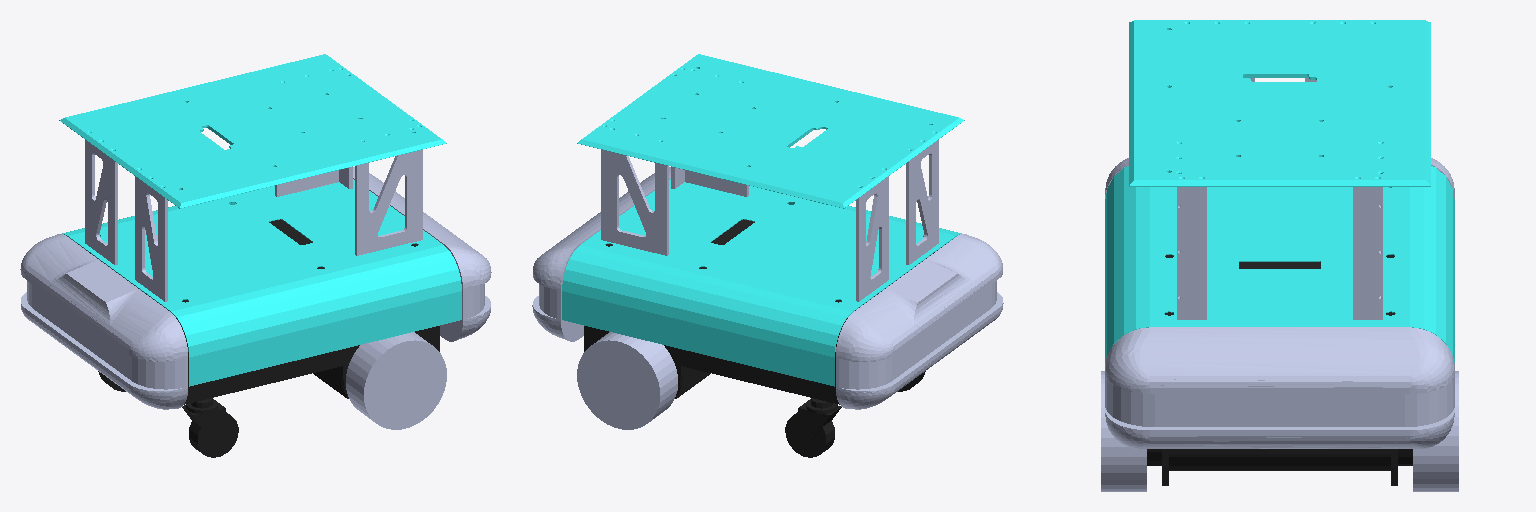
The robot description file, URDF, robot "urdf_platform_final":
<robot
  name="urdf_platform_final">
  <link
    name="Placa_cima">
    <inertial>
      <origin
        xyz="-0.176936337591448 0.00306007682802778 -0.00508917812830267"
        rpy="0 0 0" />
      <mass
        value="4.45495796159962" />
      <inertia
        ixx="0"
        ixy="0"
        ixz="0"
        iyy="0"
        iyz="0"
        izz="0" />
    </inertial>
    <visual>
      <origin
        xyz="0 0 0"
        rpy="0 0 0" />
      <geometry>
        <mesh
          filename="package://r_platform/meshes/Placa_cima.STL" />
      </geometry>
      <material
        name="">
        <color
          rgba="0.298039215686275 1 1 1" />
      </material>
    </visual>
    <collision>
      <origin
        xyz="0 0 0"
        rpy="0 0 0" />
      <geometry>
        <mesh
          filename="package://r_platform/meshes/Placa_cima.STL" />
      </geometry>
    </collision>
  </link>
  <link
    name="estrutura1">
    <inertial>
      <origin
        xyz="0.0902928987505107 0.00500000000000006 -0.15"
        rpy="0 0 0" />
      <mass
        value="0.369813102924492" />
      <inertia
        ixx="0"
        ixy="0"
        ixz="0"
        iyy="0"
        iyz="0"
        izz="0" />
    </inertial>
    <visual>
      <origin
        xyz="0 0 0"
        rpy="0 0 0" />
      <geometry>
        <mesh
          filename="package://r_platform/meshes/estrutura1.STL" />
      </geometry>
      <material
        name="">
        <color
          rgba="0.792156862745098 0.819607843137255 0.933333333333333 1" />
      </material>
    </visual>
    <collision>
      <origin
        xyz="0 0 0"
        rpy="0 0 0" />
      <geometry>
        <mesh
          filename="package://r_platform/meshes/estrutura1.STL" />
      </geometry>
    </collision>
  </link>
  <joint
    name="placa_cima_estrutura1"
    type="fixed">
    <origin
      xyz="0.182 -0.202250000000001 -0.309999999999999"
      rpy="-3.14159265358979 -6.72862439166762E-16 3.14159265358979" />
    <parent
      link="Placa_cima" />
    <child
      link="estrutura1" />
    <axis
      xyz="0 0 0" />
  </joint>
  <link
    name="Curva_cima">
    <inertial>
      <origin
        xyz="3.33066907387547E-16 -0.0324562842733922 0.39343329100272"
        rpy="0 0 0" />
      <mass
        value="1.4814389684612" />
      <inertia
        ixx="0"
        ixy="0"
        ixz="0"
        iyy="0"
        iyz="0"
        izz="0" />
    </inertial>
    <visual>
      <origin
        xyz="0 0 0"
        rpy="0 0 0" />
      <geometry>
        <mesh
          filename="package://r_platform/meshes/Curva_cima.STL" />
      </geometry>
      <material
        name="">
        <color
          rgba="0.298039215686275 1 1 1" />
      </material>
    </visual>
    <collision>
      <origin
        xyz="0 0 0"
        rpy="0 0 0" />
      <geometry>
        <mesh
          filename="package://r_platform/meshes/Curva_cima.STL" />
      </geometry>
    </collision>
  </link>
  <joint
    name="estrutura1_curva_cima"
    type="fixed">
    <origin
      xyz="-0.04 0.205 0"
      rpy="-1.5708 0 -1.5708" />
    <parent
      link="estrutura1" />
    <child
      link="Curva_cima" />
    <axis
      xyz="0 0 0" />
  </joint>
  <link
    name="plataform_base_link">
    <inertial>
      <origin
        xyz="0.409656075991922 0.112053255905365 0.235029914740766"
        rpy="0 0 0" />
      <mass
        value="106.934808234131" />
      <inertia
        ixx="0"
        ixy="0"
        ixz="0"
        iyy="0"
        iyz="0"
        izz="0" />
    </inertial>
    <visual>
      <origin
        xyz="0 0 0"
        rpy="0 0 0" />
      <geometry>
        <mesh
          filename="package://r_platform/meshes/plataform_base_link.STL" />
      </geometry>
      <material
        name="">
        <color
          rgba="0.176470588235294 0.176470588235294 0.176470588235294 1" />
      </material>
    </visual>
    <collision>
      <origin
        xyz="0 0 0"
        rpy="0 0 0" />
      <geometry>
        <mesh
          filename="package://r_platform/meshes/plataform_base_link.STL" />
      </geometry>
    </collision>
  </link>
  <joint
    name="curva_base"
    type="fixed">
    <origin
      xyz="-0.235 -0.277 0.7875"
      rpy="0 1.5707963267949 0" />
    <parent
      link="Curva_cima" />
    <child
      link="plataform_base_link" />
    <axis
      xyz="0 0 0" />
  </joint>
  <link
    name="Rwheel">
    <inertial>
      <origin
        xyz="5.55111512312578E-17 -2.77555756156289E-17 0.045"
        rpy="0 0 0" />
      <mass
        value="4.07150407905237" />
      <inertia
        ixx="0"
        ixy="0"
        ixz="0"
        iyy="0"
        iyz="0"
        izz="0" />
    </inertial>
    <visual>
      <origin
        xyz="0 0 0"
        rpy="0 0 0" />
      <geometry>
        <mesh
          filename="package://r_platform/meshes/Rwheel.STL" />
      </geometry>
      <material
        name="">
        <color
          rgba="0.792156862745098 0.819607843137255 0.933333333333333 1" />
      </material>
    </visual>
    <collision>
      <origin
        xyz="0 0 0"
        rpy="0 0 0" />
      <geometry>
        <mesh
          filename="package://r_platform/meshes/Rwheel.STL" />
      </geometry>
    </collision>
  </link>
  <joint
    name="base_Rwheel"
    type="continuous">
    <origin
      xyz="0.62 -0.03 0.5"
      rpy="0 0 0" />
    <parent
      link="plataform_base_link" />
    <child
      link="Rwheel" />
    <axis
      xyz="0 0 1" />
  </joint>
  <link
    name="Lwheel">
    <inertial>
      <origin
        xyz="0 0 -0.045"
        rpy="0 0 0" />
      <mass
        value="4.07150407905237" />
      <inertia
        ixx="0"
        ixy="0"
        ixz="0"
        iyy="0"
        iyz="0"
        izz="0" />
    </inertial>
    <visual>
      <origin
        xyz="0 0 0"
        rpy="0 0 0" />
      <geometry>
        <mesh
          filename="package://r_platform/meshes/Lwheel.STL" />
      </geometry>
      <material
        name="">
        <color
          rgba="0.792156862745098 0.819607843137255 0.933333333333333 1" />
      </material>
    </visual>
    <collision>
      <origin
        xyz="0 0 0"
        rpy="0 0 0" />
      <geometry>
        <mesh
          filename="package://r_platform/meshes/Lwheel.STL" />
      </geometry>
    </collision>
  </link>
  <joint
    name="base_Lwheel"
    type="continuous">
    <origin
      xyz="0.62 -0.03 -0.03"
      rpy="0 0 1.1753" />
    <parent
      link="plataform_base_link" />
    <child
      link="Lwheel" />
    <axis
      xyz="0 0 1" />
  </joint>
  <link
    name="Frente">
    <inertial>
      <origin
        xyz="0.347499078789456 0.0399999861284609 0.0497459135150458"
        rpy="0 0 0" />
      <mass
        value="15.6519108580651" />
      <inertia
        ixx="0"
        ixy="0"
        ixz="0"
        iyy="0"
        iyz="0"
        izz="0" />
    </inertial>
    <visual>
      <origin
        xyz="0 0 0"
        rpy="0 0 0" />
      <geometry>
        <mesh
          filename="package://r_platform/meshes/Frente.STL" />
      </geometry>
      <material
        name="">
        <color
          rgba="0.792156862745098 0.819607843137255 0.933333333333333 1" />
      </material>
    </visual>
    <collision>
      <origin
        xyz="0 0 0"
        rpy="0 0 0" />
      <geometry>
        <mesh
          filename="package://r_platform/meshes/Frente.STL" />
      </geometry>
    </collision>
  </link>
  <joint
    name="PCurva_cima_frente"
    type="fixed">
    <origin
      xyz="0.3475 -0.17 -0.003"
      rpy="3.1416 0 3.1416" />
    <parent
      link="Curva_cima" />
    <child
      link="Frente" />
    <axis
      xyz="0 0 0" />
  </joint>
  <link
    name="traseira">
    <inertial>
      <origin
        xyz="0.347499026357106 0.0413173072995202 0.0500264208794842"
        rpy="0 0 0" />
      <mass
        value="15.8453315381401" />
      <inertia
        ixx="0"
        ixy="0"
        ixz="0"
        iyy="0"
        iyz="0"
        izz="0" />
    </inertial>
    <visual>
      <origin
        xyz="0 0 0"
        rpy="0 0 0" />
      <geometry>
        <mesh
          filename="package://r_platform/meshes/traseira.STL" />
      </geometry>
      <material
        name="">
        <color
          rgba="0.792156862745098 0.819607843137255 0.933333333333333 1" />
      </material>
    </visual>
    <collision>
      <origin
        xyz="0 0 0"
        rpy="0 0 0" />
      <geometry>
        <mesh
          filename="package://r_platform/meshes/traseira.STL" />
      </geometry>
    </collision>
  </link>
  <joint
    name="PCurva_cima_traseira"
    type="fixed">
    <origin
      xyz="-0.3475 -0.17 0.788"
      rpy="0 0 0" />
    <parent
      link="Curva_cima" />
    <child
      link="traseira" />
    <axis
      xyz="0 0 0" />
  </joint>
  <link
    name="estrutura2">
    <inertial>
      <origin
        xyz="0.0301448611881368 0.15 0.00499999999999989"
        rpy="0 0 0" />
      <mass
        value="0.177127899668705" />
      <inertia
        ixx="0"
        ixy="0"
        ixz="0"
        iyy="0"
        iyz="0"
        izz="0" />
    </inertial>
    <visual>
      <origin
        xyz="0 0 0"
        rpy="0 0 0" />
      <geometry>
        <mesh
          filename="package://r_platform/meshes/estrutura2.STL" />
      </geometry>
      <material
        name="">
        <color
          rgba="0.792156862745098 0.819607843137255 0.933333333333333 1" />
      </material>
    </visual>
    <collision>
      <origin
        xyz="0 0 0"
        rpy="0 0 0" />
      <geometry>
        <mesh
          filename="package://r_platform/meshes/estrutura2.STL" />
      </geometry>
    </collision>
  </link>
  <joint
    name="estrutura2_placa_cima"
    type="fixed">
    <origin
      xyz="0.192 -0.20225 -0.01"
      rpy="-1.5708 6.9606E-16 1.5708" />
    <parent
      link="Placa_cima" />
    <child
      link="estrutura2" />
    <axis
      xyz="0 0 0" />
  </joint>
  <link
    name="estrutura3">
    <inertial>
      <origin
        xyz="0.0298551388118631 0.15 0.005"
        rpy="0 0 0" />
      <mass
        value="0.177127899668705" />
      <inertia
        ixx="0"
        ixy="0"
        ixz="0"
        iyy="0"
        iyz="0"
        izz="0" />
    </inertial>
    <visual>
      <origin
        xyz="0 0 0"
        rpy="0 0 0" />
      <geometry>
        <mesh
          filename="package://r_platform/meshes/estrutura3.STL" />
      </geometry>
      <material
        name="">
        <color
          rgba="0.792156862745098 0.819607843137255 0.933333333333333 1" />
      </material>
    </visual>
    <collision>
      <origin
        xyz="0 0 0"
        rpy="0 0 0" />
      <geometry>
        <mesh
          filename="package://r_platform/meshes/estrutura3.STL" />
      </geometry>
    </collision>
  </link>
  <joint
    name="estrutura3_placa_cima"
    type="fixed">
    <origin
      xyz="0.192 0.14775 -0.01"
      rpy="-1.5708 6.9606E-16 1.5708" />
    <parent
      link="Placa_cima" />
    <child
      link="estrutura3" />
    <axis
      xyz="0 0 0" />
  </joint>
  <link
    name="estrutura4">
    <inertial>
      <origin
        xyz="0.0902928987505107 0.005 -0.15"
        rpy="0 0 0" />
      <mass
        value="0.369813102924493" />
      <inertia
        ixx="0"
        ixy="0"
        ixz="0"
        iyy="0"
        iyz="0"
        izz="0" />
    </inertial>
    <visual>
      <origin
        xyz="0 0 0"
        rpy="0 0 0" />
      <geometry>
        <mesh
          filename="package://r_platform/meshes/estrutura4.STL" />
      </geometry>
      <material
        name="">
        <color
          rgba="0.792156862745098 0.819607843137255 0.933333333333333 1" />
      </material>
    </visual>
    <collision>
      <origin
        xyz="0 0 0"
        rpy="0 0 0" />
      <geometry>
        <mesh
          filename="package://r_platform/meshes/estrutura4.STL" />
      </geometry>
    </collision>
  </link>
  <joint
    name="placa_cima_estrutrura4"
    type="fixed">
    <origin
      xyz="0.182 0.19775 -0.31"
      rpy="-3.1416 -6.7286E-16 3.1416" />
    <parent
      link="Placa_cima" />
    <child
      link="estrutura4" />
    <axis
      xyz="0 0 0" />
  </joint>
  <link
    name="estrutura5">
    <inertial>
      <origin
        xyz="0.075 0.005 -0.15"
        rpy="0 0 0" />
      <mass
        value="0.347080724470473" />
      <inertia
        ixx="0"
        ixy="0"
        ixz="0"
        iyy="0"
        iyz="0"
        izz="0" />
    </inertial>
    <visual>
      <origin
        xyz="0 0 0"
        rpy="0 0 0" />
      <geometry>
        <mesh
          filename="package://r_platform/meshes/estrutura5.STL" />
      </geometry>
      <material
        name="">
        <color
          rgba="0.792156862745098 0.819607843137255 0.933333333333333 1" />
      </material>
    </visual>
    <collision>
      <origin
        xyz="0 0 0"
        rpy="0 0 0" />
      <geometry>
        <mesh
          filename="package://r_platform/meshes/estrutura5.STL" />
      </geometry>
    </collision>
  </link>
  <joint
    name="placa_cima_Estrutura5"
    type="fixed">
    <origin
      xyz="-0.538 0.20275 -0.31"
      rpy="3.1416 -6.9606E-16 -1.5708" />
    <parent
      link="Placa_cima" />
    <child
      link="estrutura5" />
    <axis
      xyz="0 0 0" />
  </joint>
  <link
    name="estrutura6">
    <inertial>
      <origin
        xyz="0.0750000000000001 0.00499999999999989 -0.15"
        rpy="0 0 0" />
      <mass
        value="0.347080724470473" />
      <inertia
        ixx="0"
        ixy="0"
        ixz="0"
        iyy="0"
        iyz="0"
        izz="0" />
    </inertial>
    <visual>
      <origin
        xyz="0 0 0"
        rpy="0 0 0" />
      <geometry>
        <mesh
          filename="package://r_platform/meshes/estrutura6.STL" />
      </geometry>
      <material
        name="">
        <color
          rgba="0.792156862745098 0.819607843137255 0.933333333333333 1" />
      </material>
    </visual>
    <collision>
      <origin
        xyz="0 0 0"
        rpy="0 0 0" />
      <geometry>
        <mesh
          filename="package://r_platform/meshes/estrutura6.STL" />
      </geometry>
    </collision>
  </link>
  <joint
    name="placa_cima_estrutura6"
    type="fixed">
    <origin
      xyz="-0.548 -0.19725 -0.31"
      rpy="-3.1416 6.9606E-16 1.5708" />
    <parent
      link="Placa_cima" />
    <child
      link="estrutura6" />
    <axis
      xyz="0 0 0" />
  </joint>
</robot>

--- Facts derived from the render (not from the file) ---
Views: 3 orthographic renders of the robot side by side, from view 1: azimuth 30°, elevation 25°; view 2: azimuth 150°, elevation 25°; view 3: azimuth 270°, elevation 25°.
Model urdf_platform_final with 13 links and 12 joints (2 continuous, 10 fixed), rooted at Placa_cima, posed every joint at zero.
Links seen in each view (by area): view 1: Curva_cima, Placa_cima, traseira, Rwheel, plataform_base_link, estrutura1, Frente, estrutura6, estrutura5, estrutura4; view 2: Curva_cima, Placa_cima, traseira, Lwheel, plataform_base_link, estrutura4, Frente, estrutura5, estrutura6, estrutura1; view 3: Placa_cima, Curva_cima, Frente, plataform_base_link, estrutura2, estrutura3, Lwheel, Rwheel.
Boxes of the visible links, left/top/right/bottom form: Curva_cima: left=62, top=179, right=461, bottom=386; Placa_cima: left=59, top=54, right=446, bottom=208; traseira: left=20, top=234, right=187, bottom=409; Rwheel: left=346, top=332, right=446, bottom=429; plataform_base_link: left=78, top=219, right=439, bottom=457; estrutura1: left=355, top=150, right=419, bottom=255; Frente: left=353, top=167, right=491, bottom=341; estrutura6: left=135, top=176, right=167, bottom=301; estrutura5: left=85, top=140, right=117, bottom=264; estrutura4: left=275, top=170, right=338, bottom=196; Curva_cima: left=562, top=179, right=961, bottom=386; Placa_cima: left=577, top=54, right=964, bottom=208; traseira: left=836, top=234, right=1003, bottom=409; Lwheel: left=577, top=332, right=677, bottom=429; plataform_base_link: left=584, top=219, right=945, bottom=457; estrutura4: left=604, top=150, right=668, bottom=255; Frente: left=532, top=167, right=670, bottom=341; estrutura5: left=856, top=176, right=888, bottom=301; estrutura6: left=906, top=140, right=938, bottom=264; estrutura1: left=685, top=170, right=748, bottom=196; Placa_cima: left=1129, top=20, right=1430, bottom=187; Curva_cima: left=1105, top=166, right=1454, bottom=362; Frente: left=1105, top=327, right=1454, bottom=448; plataform_base_link: left=1147, top=255, right=1412, bottom=485; estrutura2: left=1177, top=187, right=1206, bottom=319; estrutura3: left=1353, top=187, right=1382, bottom=319; Lwheel: left=1413, top=371, right=1458, bottom=491; Rwheel: left=1101, top=371, right=1146, bottom=491.
Size in the robot's own frame: 1.03 by 0.71 by 0.7476 metres.
13 mesh visuals loaded from 13 distinct referenced files (13 binary STL).